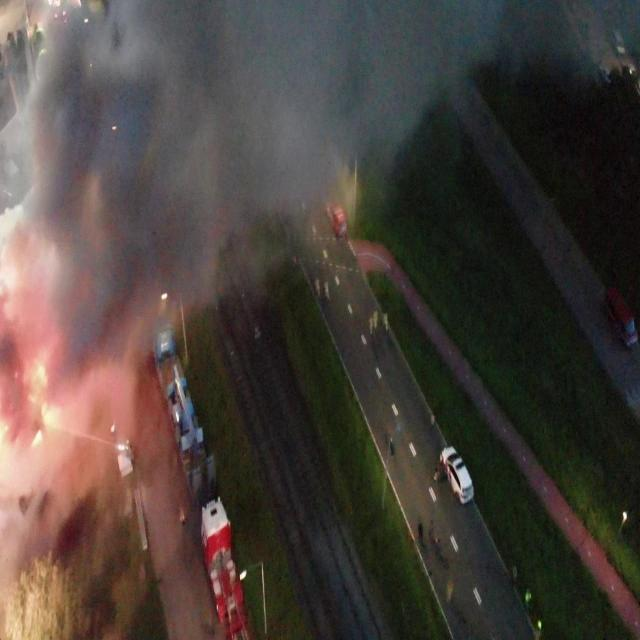Fire: (41, 402, 60, 429), (38, 366, 48, 386), (31, 429, 42, 446), (4, 424, 8, 432)
Smoke: (0, 0, 640, 605)
